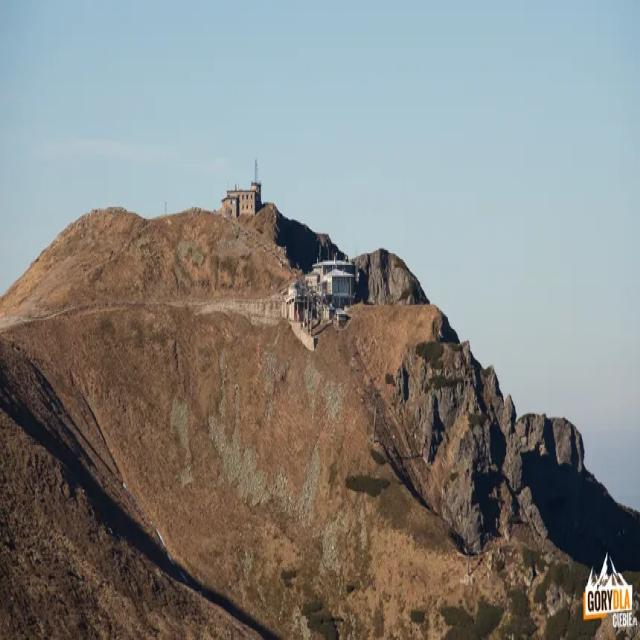Kasprowy Wierch: (123, 1, 473, 489)
